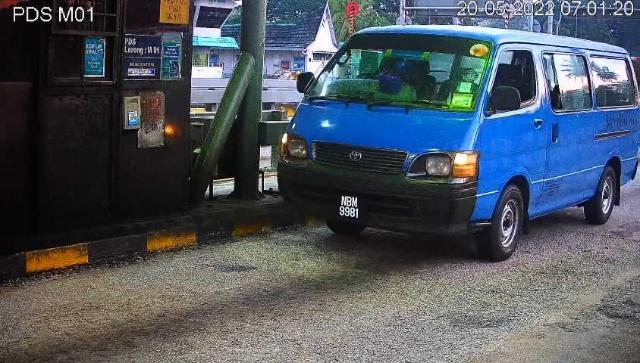License_Plate: (332, 192, 366, 225)
van: (279, 26, 640, 264)
